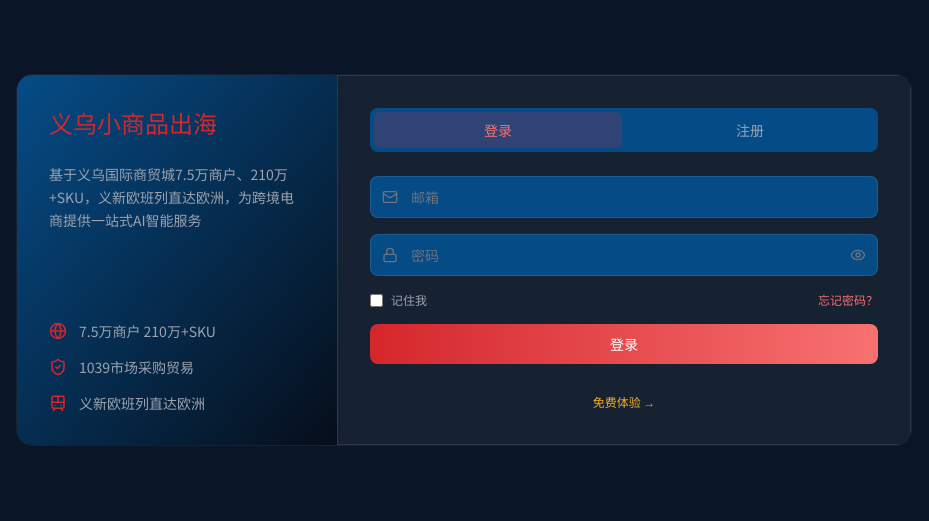
Test: Login page (认证表单) › 切换到注册 Tab 后出现确认密码字段（表单内容随 Tab 变化）
# 第一个是 Tab 按钮（在 Tabs 区域），点击它
Click the button "注册" at point(750, 130), box x1=626 y1=112 x2=874 y2=148
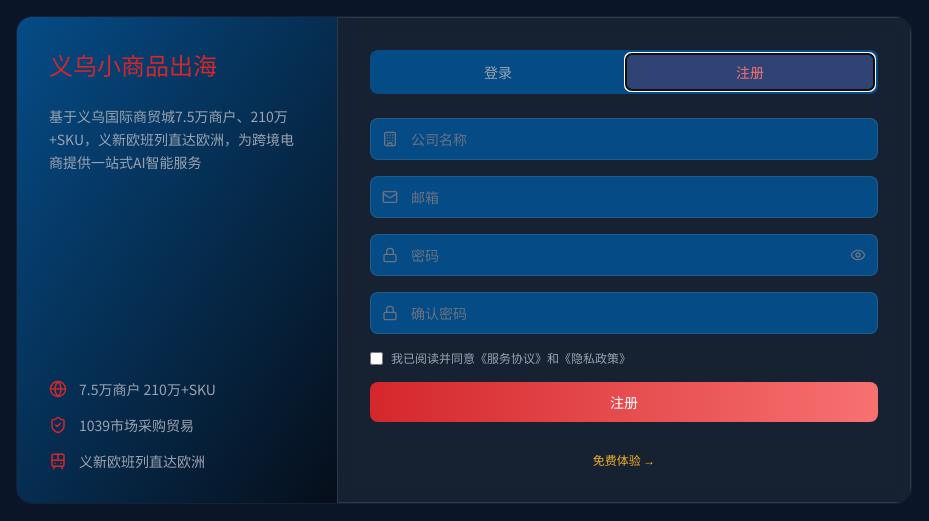
Now the password field with placeholder "确认密码" is shown, box x1=370 y1=292 x2=878 y2=334
